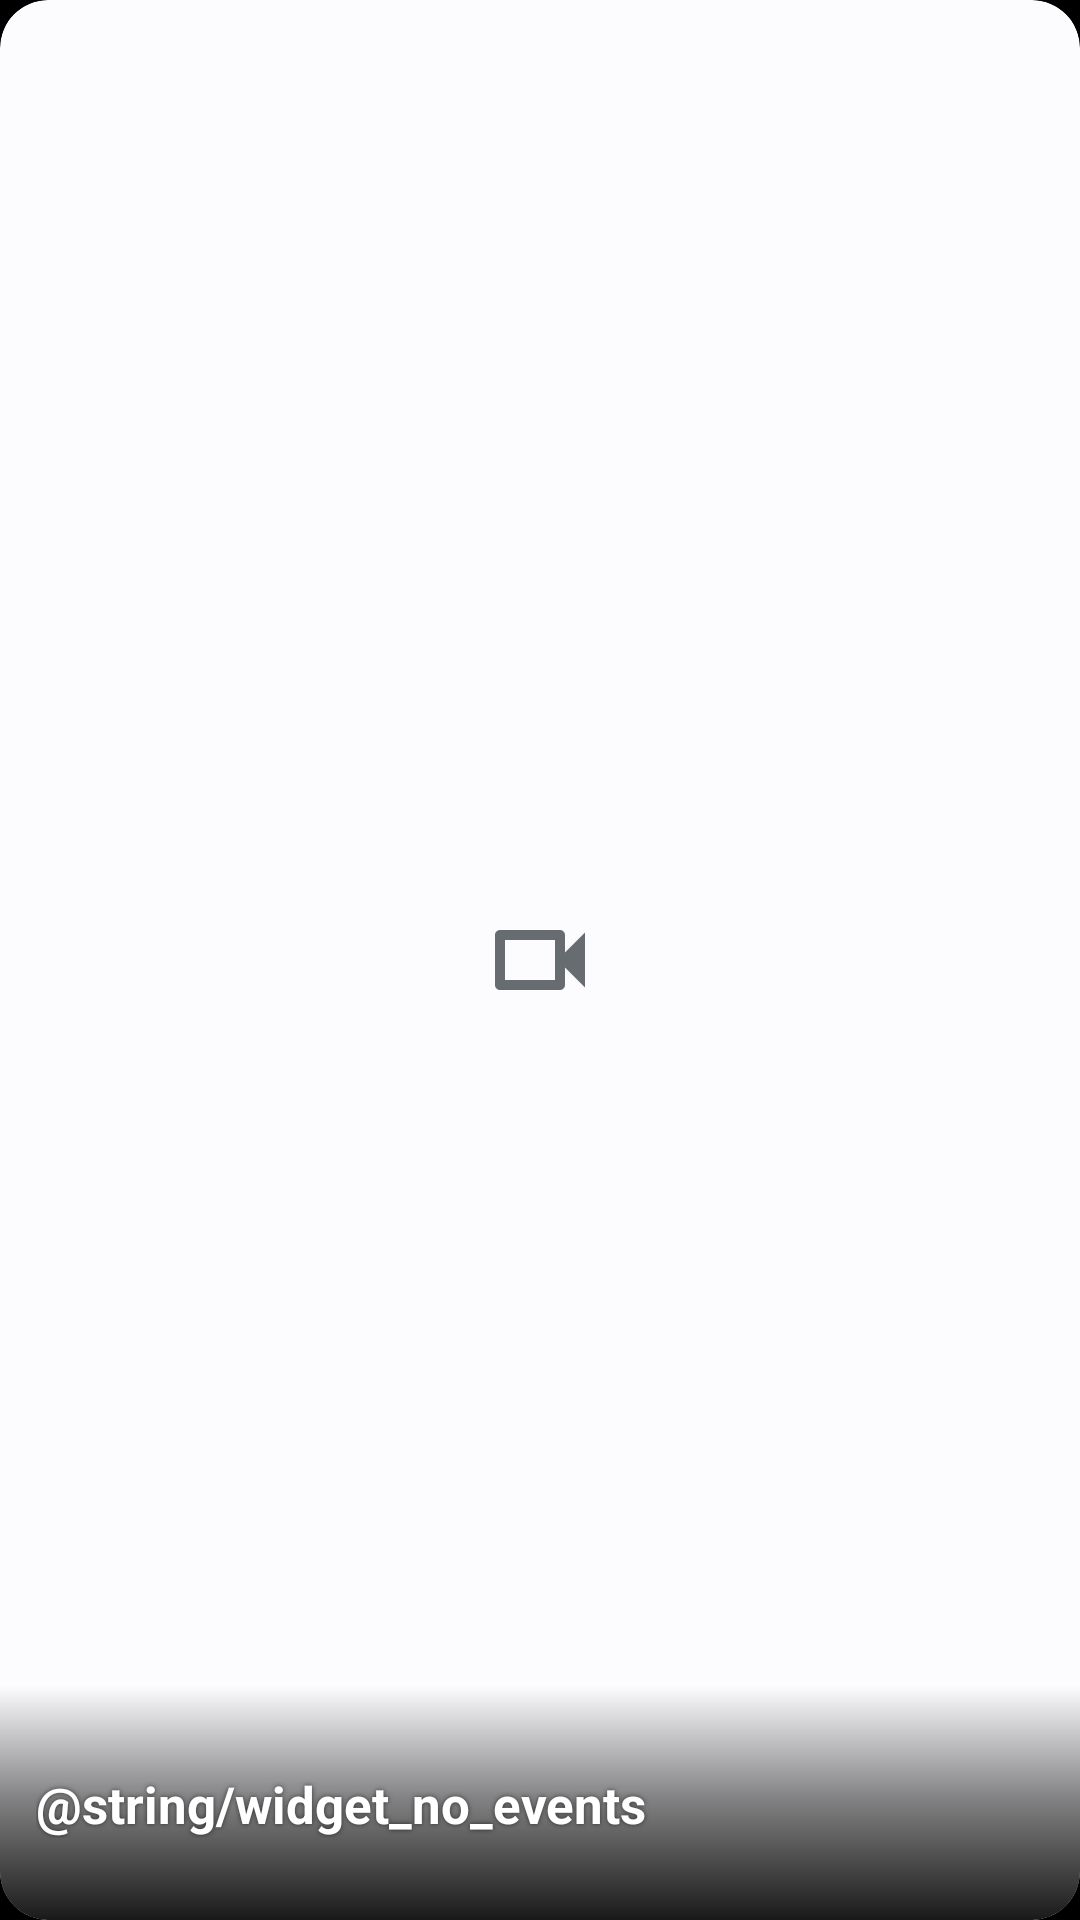

Where icons sit on this 1080w x 1920h app screen, as (x1, y1, x2, y2):
widget camera: (495, 930, 585, 990)
